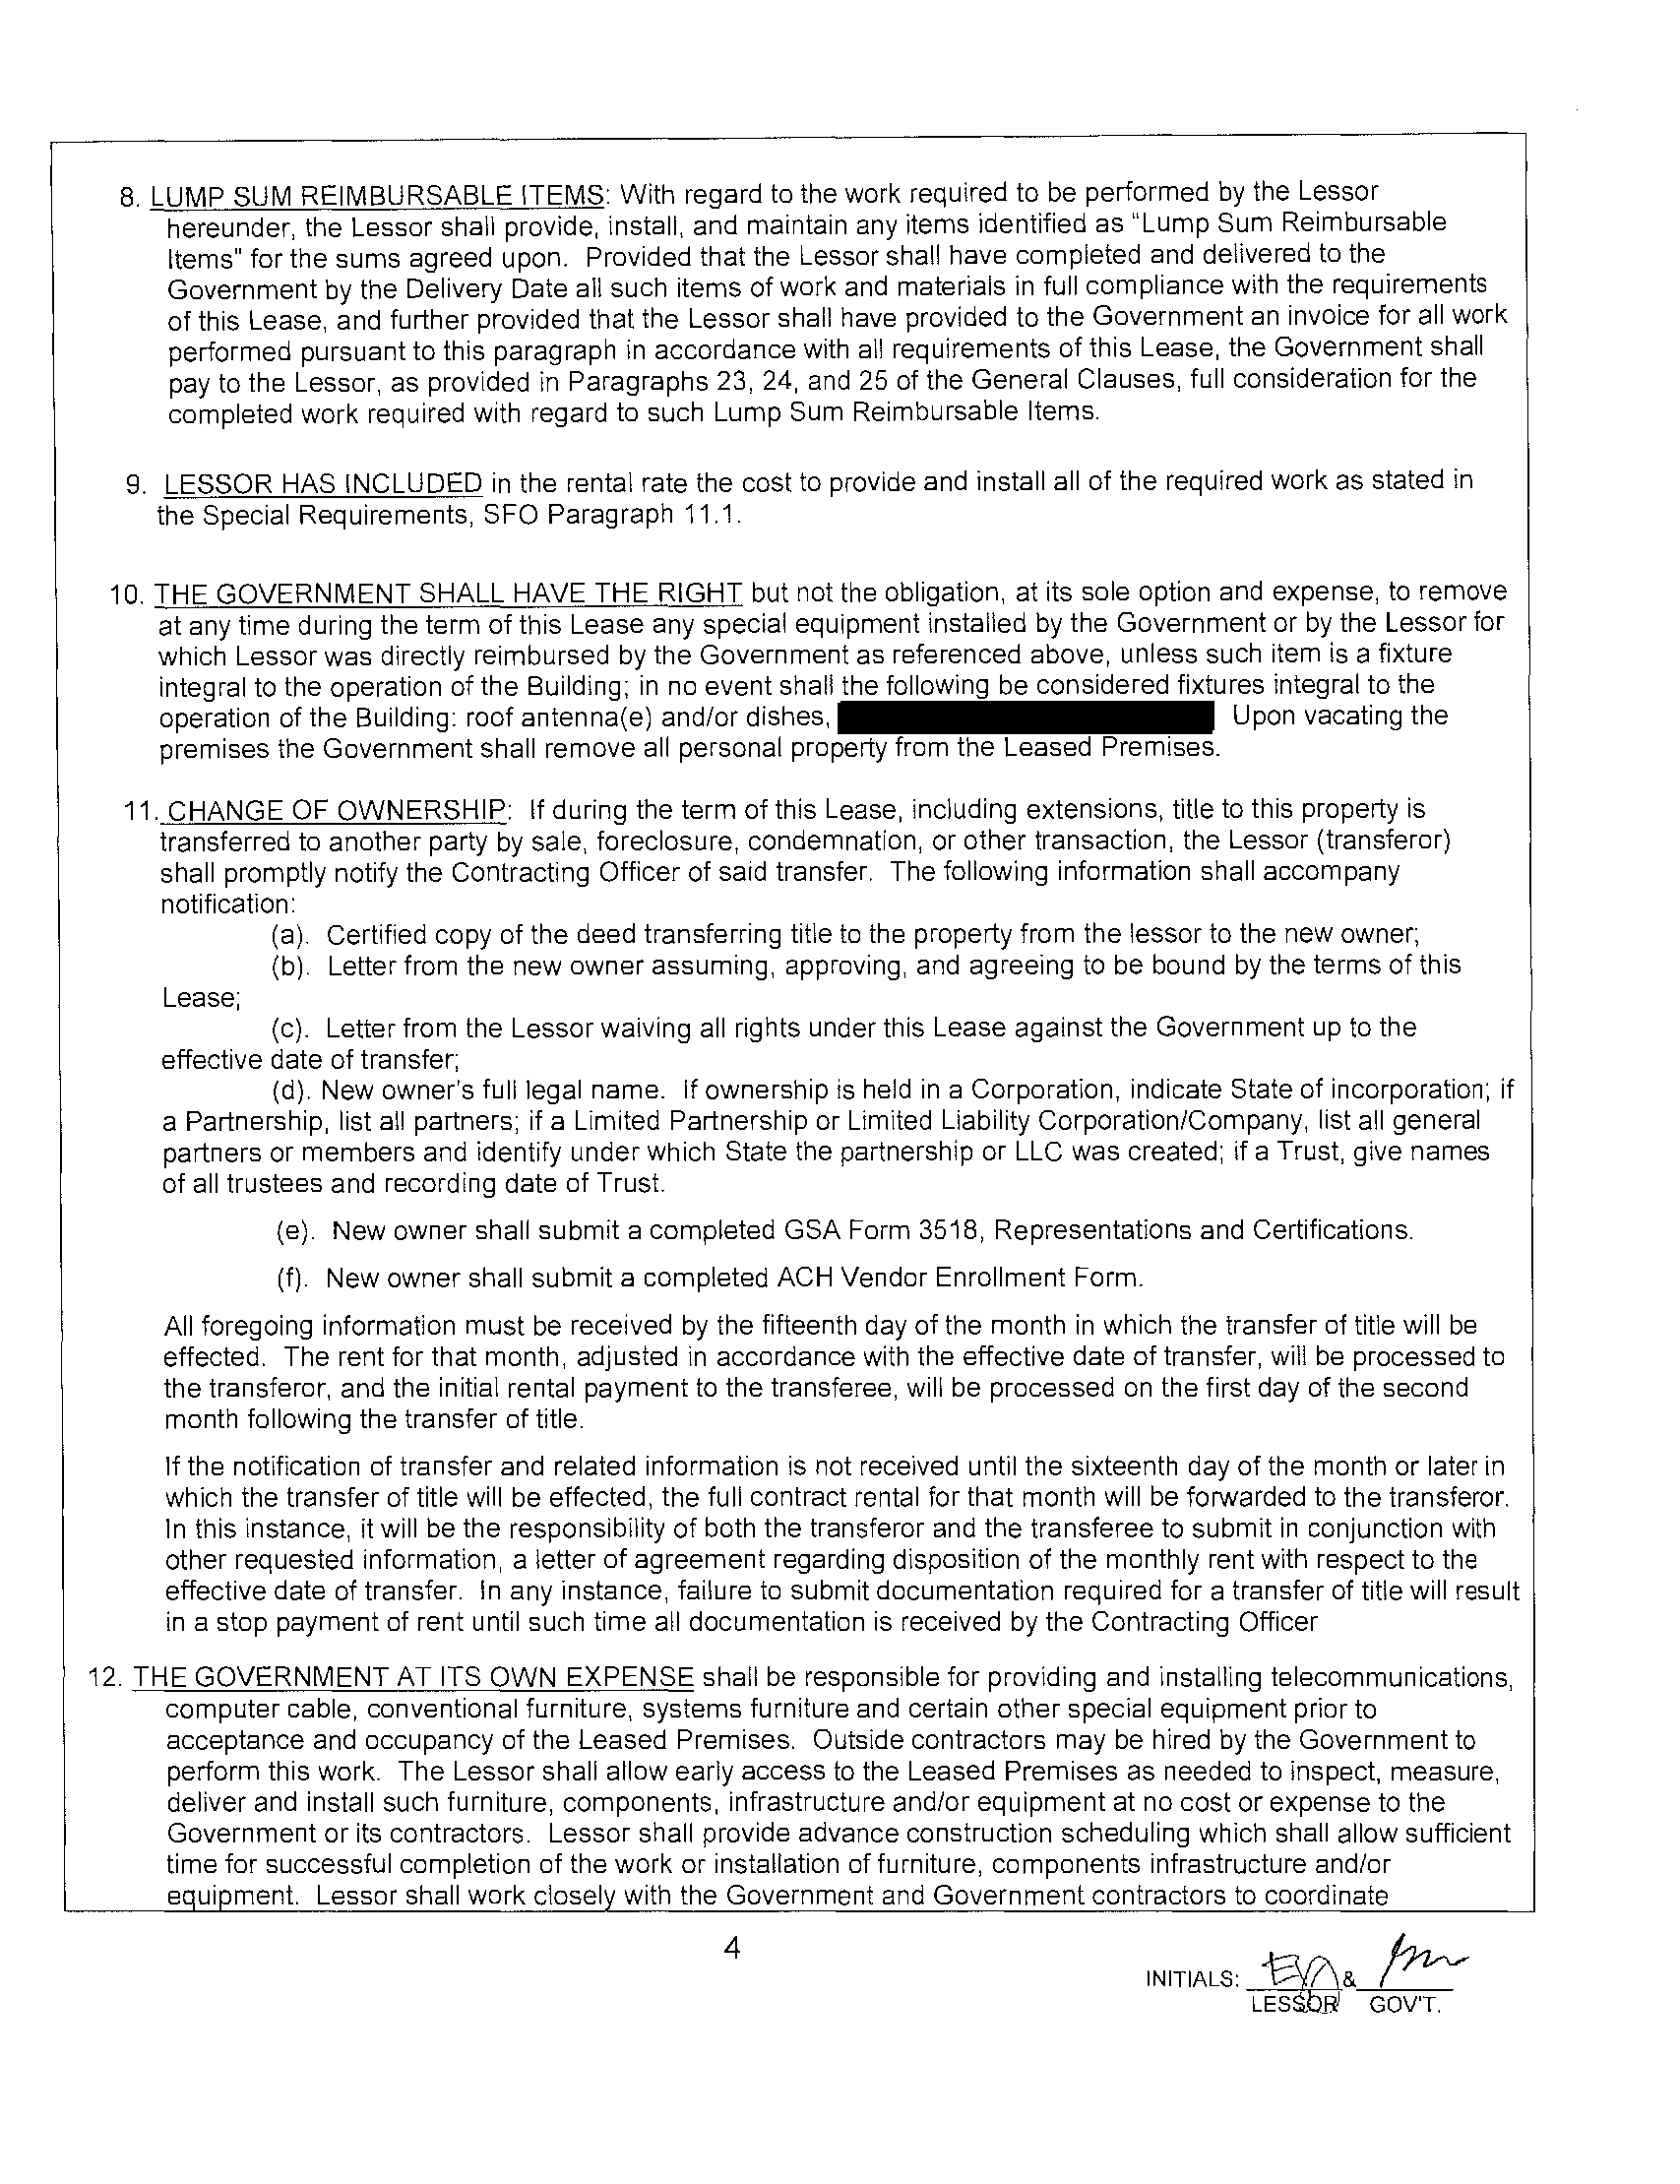handwritten: (1249, 1918, 1477, 1992)
